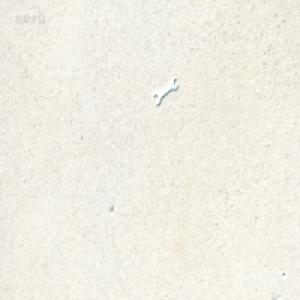Wrench: (154, 76, 178, 107)
